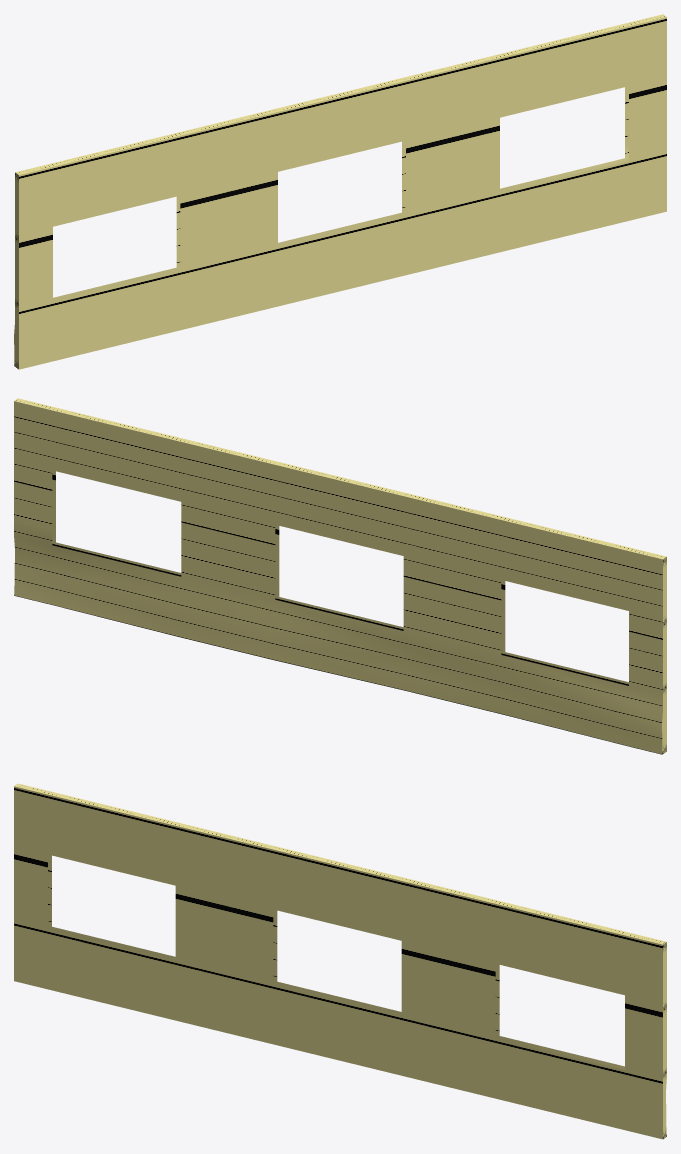
Rendered from paredtraseracasa.obj.
The picture shows the model from 3 angles, top to bottom: view 1: azimuth 30°, elevation 25°; view 2: azimuth 150°, elevation 25°; view 3: azimuth 330°, elevation 25°; orthographic projection.
Parts seen in each view (by area): view 1: pasted__pasted__pCube3 pasted__group6 group7; view 2: pasted__pasted__pCube3 pasted__group6 group7; view 3: pasted__pasted__pCube3 pasted__group6 group7.
Boxes of the visible parts, x1=… form: pasted__pasted__pCube3 pasted__group6 group7: x1=14, y1=14, x2=666, y2=369; pasted__pasted__pCube3 pasted__group6 group7: x1=14, y1=398, x2=666, y2=754; pasted__pasted__pCube3 pasted__group6 group7: x1=14, y1=783, x2=666, y2=1139.
Size of the model in its own units: 9.95 by 2.86 by 0.1324.
1 material, 1 textured.
